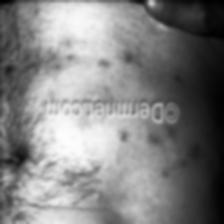Toxin: (145, 122, 200, 170), (18, 39, 74, 78), (110, 122, 130, 142), (91, 56, 109, 72), (169, 67, 183, 87), (122, 51, 135, 71)
